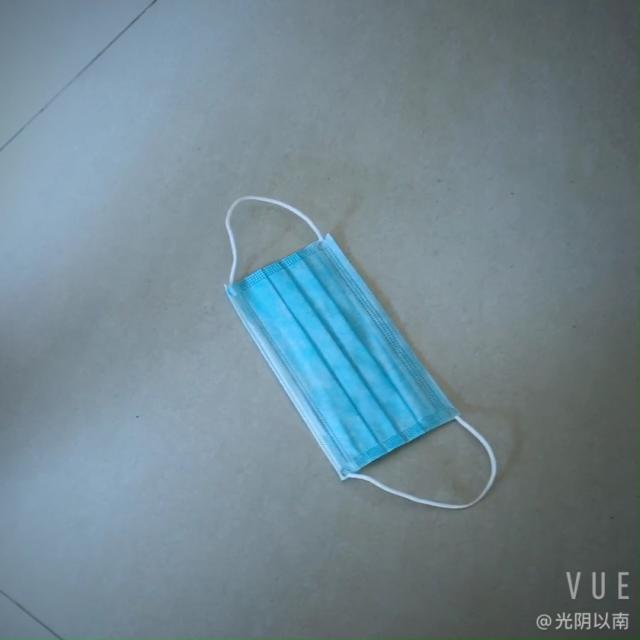face mask: (220, 228, 467, 483)
